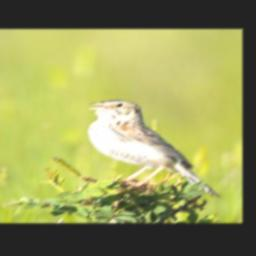Sparrow: (93, 100, 228, 200)
